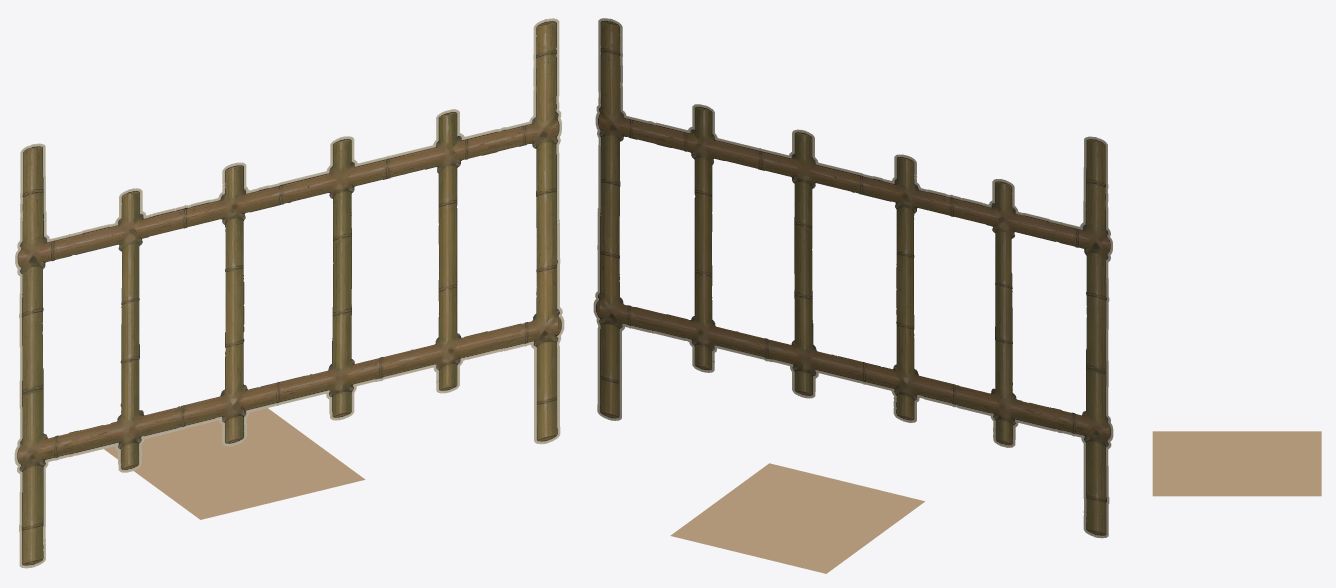
File: toad-standee-rocket-frame.glb
3 renders of one model, left to right at view 1: azimuth 30°, elevation 25°; view 2: azimuth 150°, elevation 25°; view 3: azimuth 270°, elevation 25°, orthographic. The views are drawn at different scales.
Visible parts, largest first — view 1: rocket-frame; view 2: rocket-frame; view 3: rocket-frame.
Part boxes in pixels (box(x1,y1,x2,y2)): rocket-frame: box(14, 18, 564, 568); rocket-frame: box(593, 18, 1113, 573); rocket-frame: box(1152, 431, 1321, 496).
Bounding box in the file's own units: 0.1 × 0.0739 × 0.035.
Materials: 1 (1 with a texture image).
